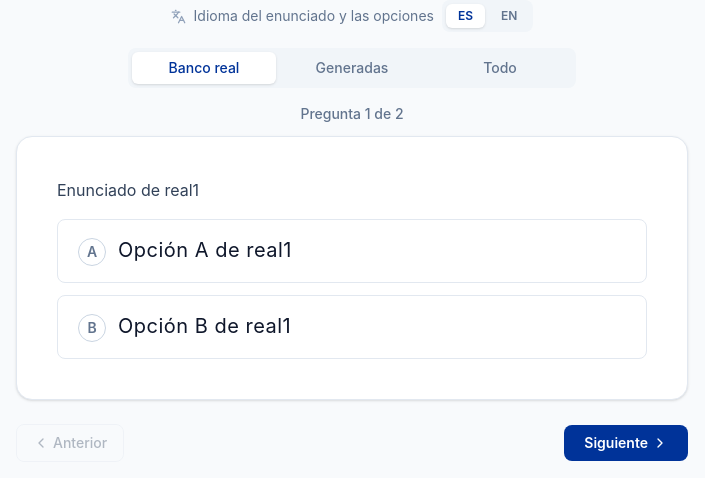
Test case: con figuras generadas por el motor › «Generadas» enseña sólo las del motor
Click the button "Generadas": click(352, 68) [280,52,424,84]
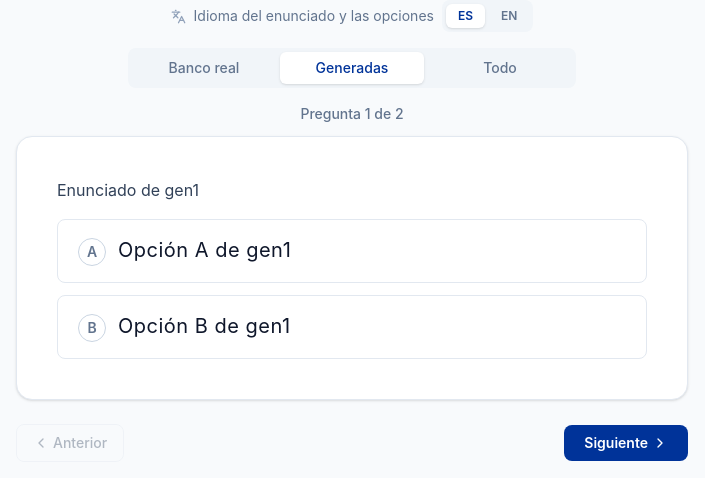
Expected: the text "Enunciado de gen1" is shown, [57,180,199,200]
